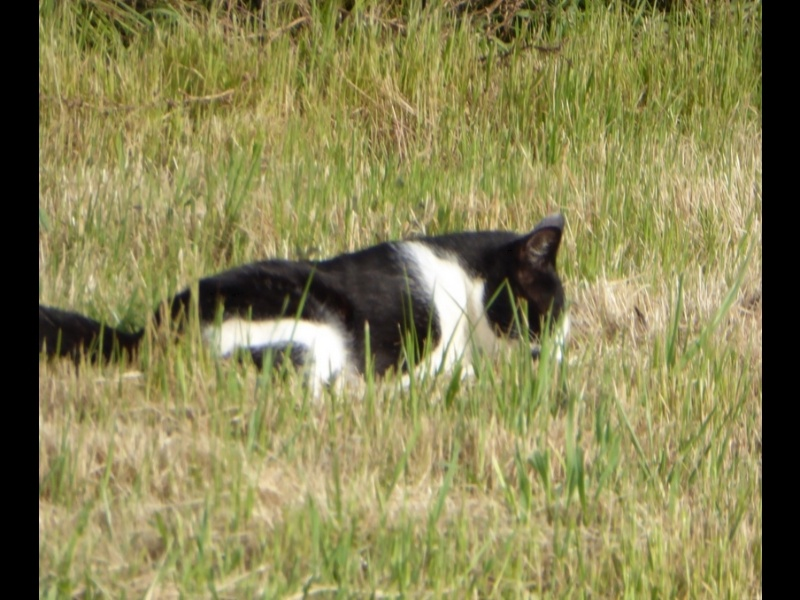cat: (43, 211, 578, 422)
